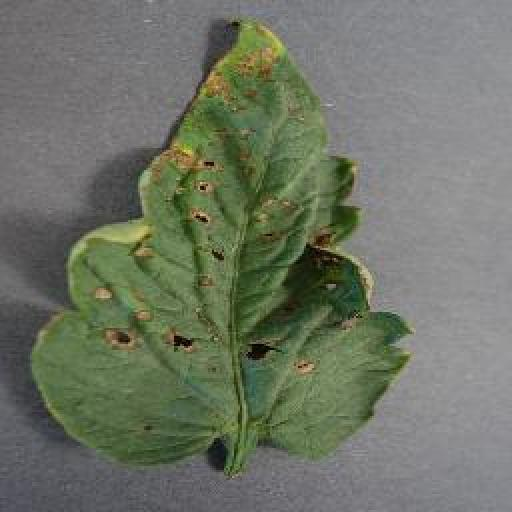Bacterial Spot: (18, 11, 428, 480)
